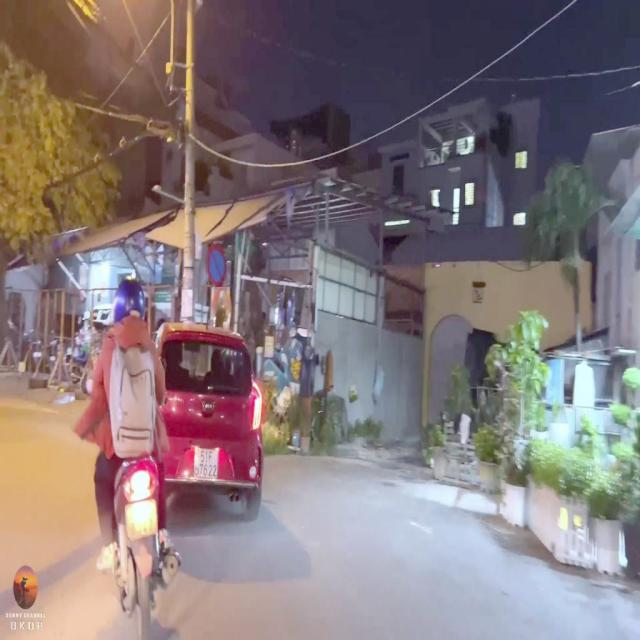cam_do_xe: (206, 241, 227, 287)
